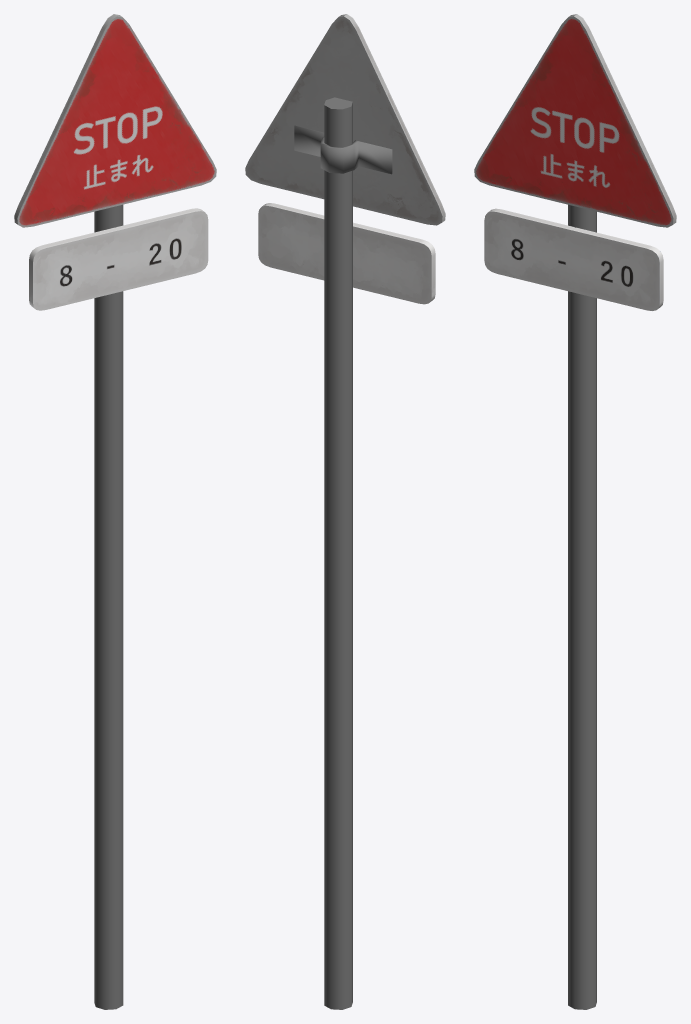
The model's file is SM_sign_traffic_009.fbx.
3 views of the same model, side by side, from view 1: azimuth 30°, elevation 25°; view 2: azimuth 150°, elevation 25°; view 3: azimuth 330°, elevation 25° (orthographic).
Visible parts, largest first — view 1: Object32693; view 2: Object32693; view 3: Object32693.
Boxes of the visible parts, box(x1,y1,x2,y2) form: Object32693: box(14, 14, 216, 1009); Object32693: box(245, 14, 445, 1009); Object32693: box(474, 14, 676, 1009).
Size of the model in its own units: 24.22 by 115 by 4.34.
